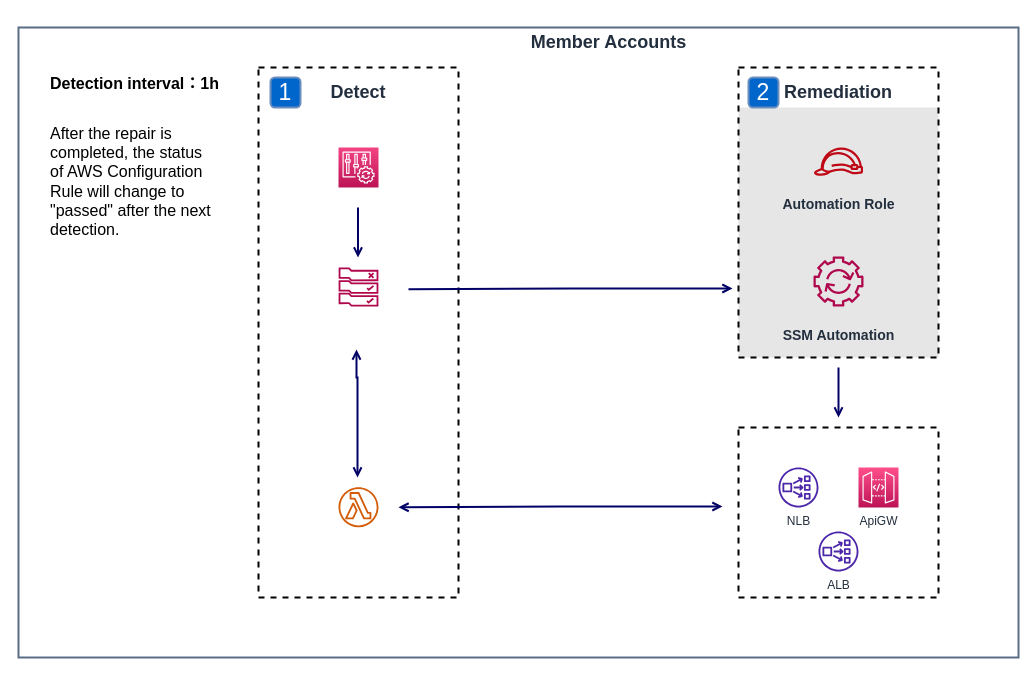
Some shapes in this 1036 by 676 pixel diagram are drawn without their labels. The shapes that lost their labels are listed below. From the top down, each one's box as (x1, y1, x2, y2) in pixels, then its label:
(338, 146, 378, 188): Configuration
(338, 267, 378, 306): Configuration rule
(338, 487, 378, 527): AWS Lambda (Check Resource Config)
